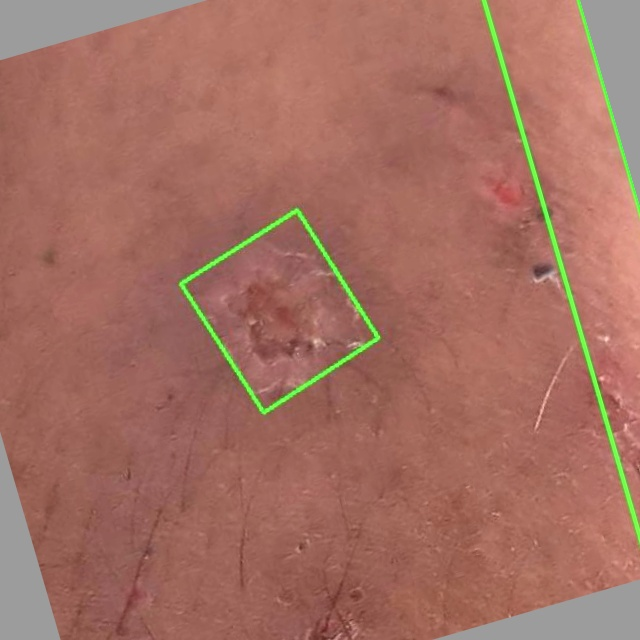Eczema: (180, 209, 378, 412)
